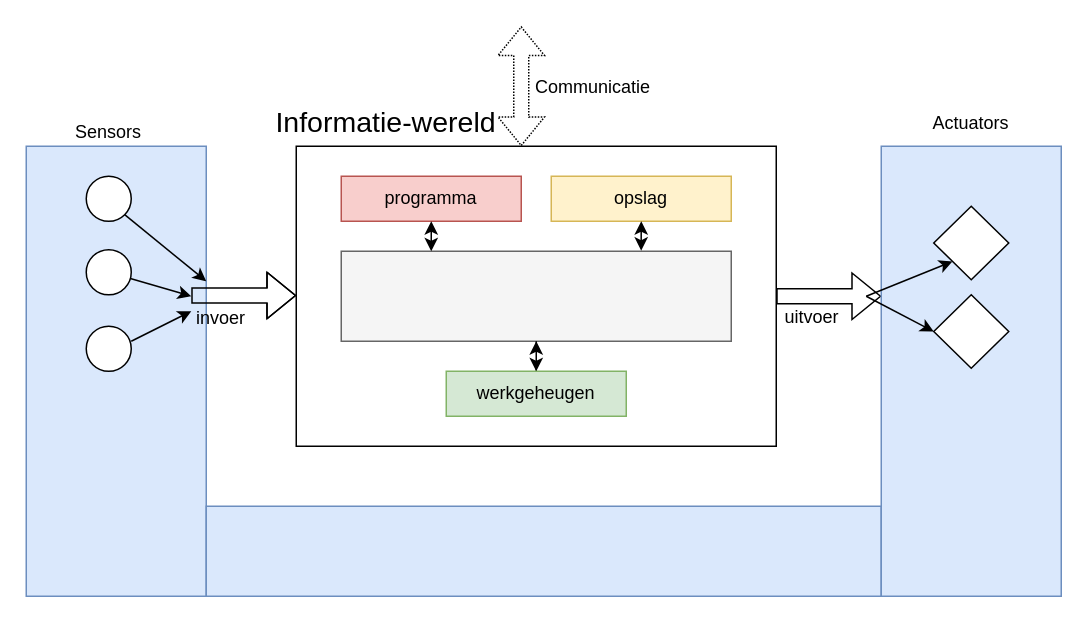
This 1088x623 diagram has some shape labels left out. The centre of each missing label's shape, as x and y in pixels:
"Fysieke wereld" goes at pixel 543 550.
"verwerkingseenheid" goes at pixel 535 295.
